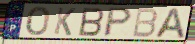A: (153, 7, 187, 40)
B: (77, 7, 106, 37), (131, 7, 159, 38)
K: (52, 7, 77, 37)
O: (25, 6, 50, 37)
P: (102, 7, 134, 38)
